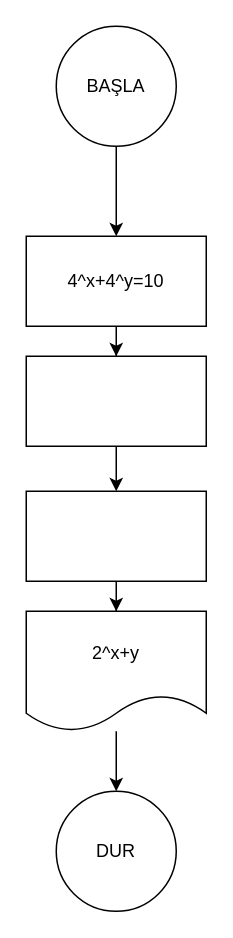
Image size: 233x938. Some labels were removed from this diagram. Here are the shapes that lost their labels. From the top down, the centre of each, then its label:
At pixel 115 400: "4^x-4^y=8".
At pixel 115 535: "4^x=9,y=0".
